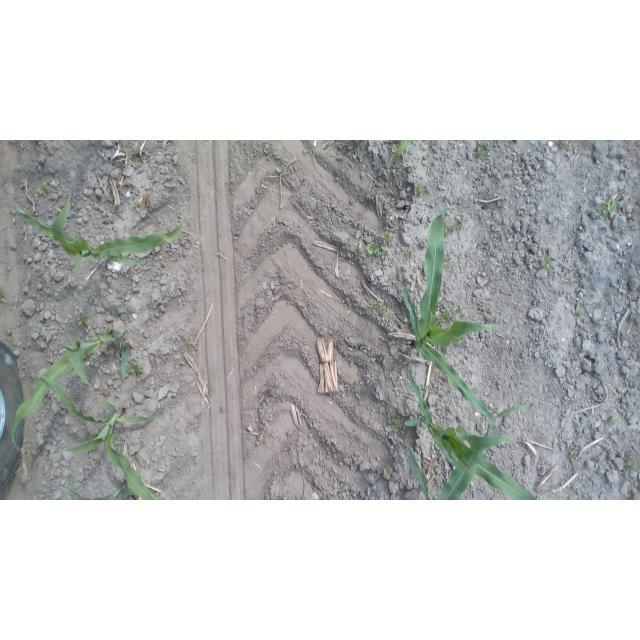Maize: (402, 206, 501, 422), (403, 365, 542, 500), (35, 369, 165, 500), (10, 328, 135, 462), (13, 188, 185, 277), (401, 402, 528, 500), (58, 480, 154, 501), (387, 141, 415, 169)
Weeds: (434, 302, 468, 322), (593, 197, 620, 219), (442, 217, 470, 235), (368, 297, 390, 317), (364, 243, 387, 262), (386, 412, 403, 435), (447, 335, 471, 351), (625, 450, 640, 475), (125, 363, 148, 379), (472, 145, 491, 164), (565, 445, 583, 465), (538, 255, 555, 273), (413, 183, 433, 198), (381, 459, 396, 478), (416, 382, 436, 396), (34, 183, 50, 200), (527, 240, 543, 257), (551, 140, 578, 150), (186, 340, 202, 355), (75, 313, 91, 328), (85, 295, 101, 309), (103, 302, 120, 315), (381, 229, 396, 243), (603, 287, 617, 302), (614, 389, 629, 403), (121, 271, 139, 282), (103, 282, 118, 295), (608, 413, 621, 428), (405, 242, 417, 258), (574, 306, 590, 318), (443, 255, 455, 270), (594, 316, 608, 328), (567, 272, 578, 287), (576, 347, 590, 358), (566, 362, 578, 374), (351, 380, 362, 391), (169, 251, 179, 262), (105, 326, 116, 336), (630, 490, 640, 500)
